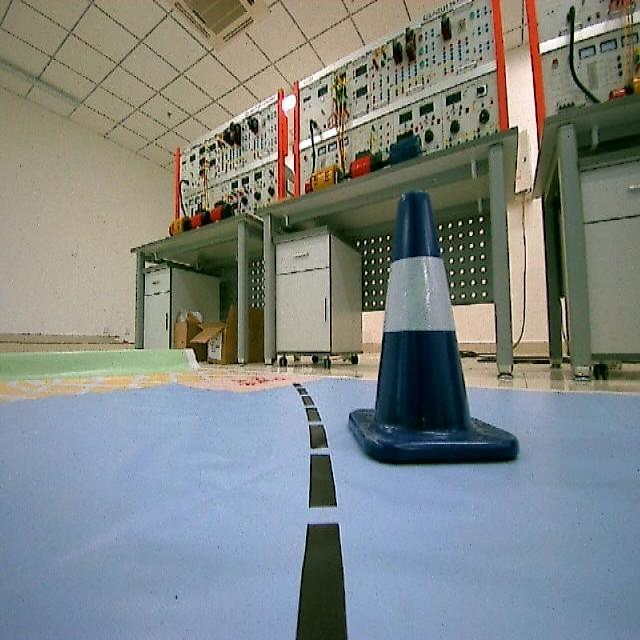obstacle: (332, 189, 524, 482)
